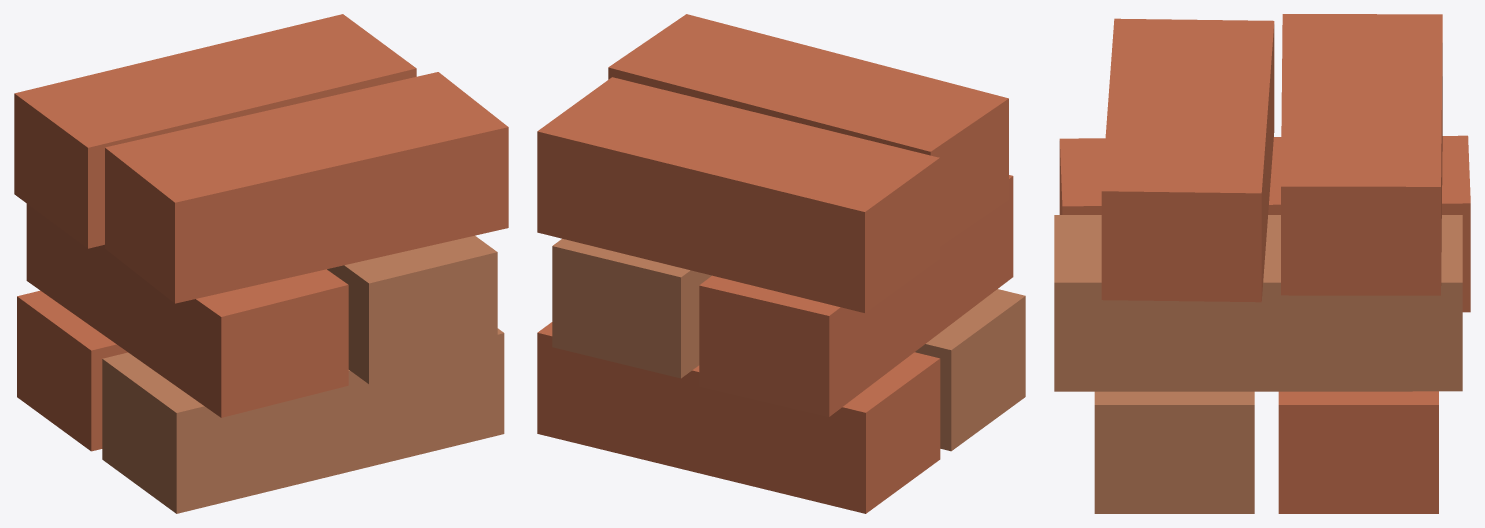
Rendered from Brick_Pile_m_05.fbx.
3 views of the same model, side by side, from view 1: azimuth 30°, elevation 25°; view 2: azimuth 150°, elevation 25°; view 3: azimuth 270°, elevation 25° (orthographic). The views are drawn at different scales.
Visible parts, largest first — view 1: Brick_Pile_m_05; view 2: Brick_Pile_m_05; view 3: Brick_Pile_m_05.
Part boxes in pixels (x1,y1,x2,y2): Brick_Pile_m_05: [14, 14, 508, 513]; Brick_Pile_m_05: [537, 14, 1025, 513]; Brick_Pile_m_05: [1054, 14, 1470, 513].
Size of the model in its own units: 26.5 by 22.5 by 26.01.
